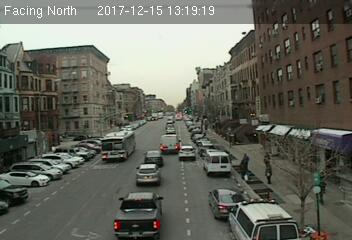bus: (100, 131, 137, 161)
car: (114, 193, 165, 240), (208, 188, 247, 218), (135, 164, 160, 184), (143, 150, 163, 166), (178, 145, 196, 160)
pedestrian: (240, 152, 250, 179), (265, 165, 273, 185)
police: (226, 198, 304, 240)
truck: (203, 151, 231, 177), (160, 135, 181, 153)
